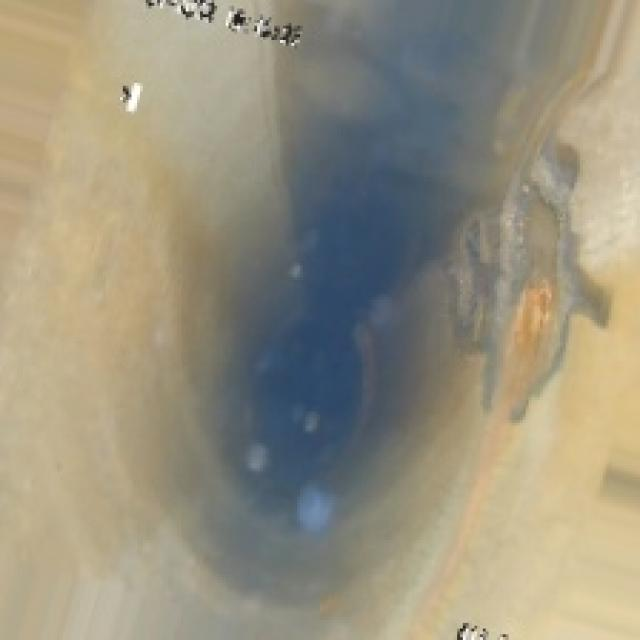pipe_surface_damage: (446, 143, 611, 428)
